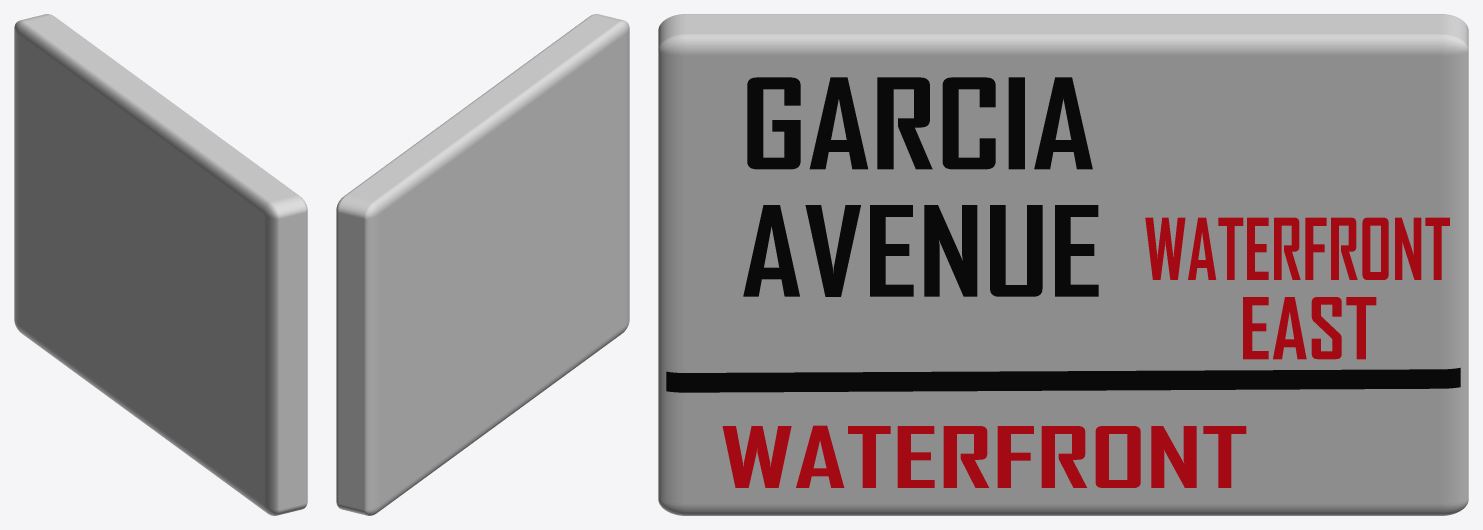
Rendered from uk_styled_street_sign_45.fbx.
The picture shows the model from 3 angles, left to right: view 1: azimuth 30°, elevation 25°; view 2: azimuth 150°, elevation 25°; view 3: azimuth 270°, elevation 25°; orthographic projection. The views are drawn at different scales.
Visible parts, largest first — view 1: Cube; view 2: Cube; view 3: Cube, Text, Text.002, Text.001, Text.003, Text.004.
Boxes of the visible parts, <box> form: Cube: <box>14,14,307,515</box>; Cube: <box>336,14,629,515</box>; Cube: <box>658,14,1468,515</box>; Text: <box>747,77,1092,169</box>; Text.002: <box>722,425,1246,487</box>; Text.001: <box>743,205,1098,296</box>; Text.003: <box>1145,217,1449,279</box>; Text.004: <box>1243,297,1376,359</box>.
Bounding box in the file's own units: 1.63 × 11.91 × 18.18.
